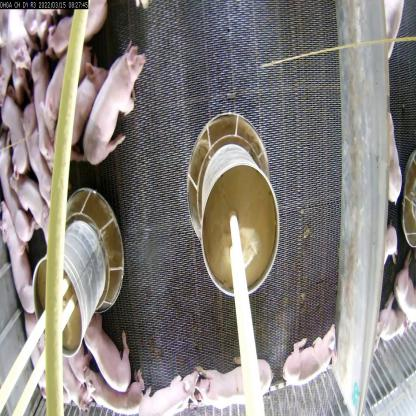Pig: (85, 42, 146, 168), (181, 346, 287, 415), (0, 199, 43, 332), (270, 316, 346, 391), (82, 300, 138, 393), (40, 44, 92, 142), (58, 53, 105, 161), (36, 338, 94, 416), (41, 0, 111, 63), (15, 303, 56, 408), (0, 134, 35, 254), (121, 363, 200, 416), (79, 361, 150, 416), (7, 166, 53, 249), (22, 104, 58, 209), (29, 45, 57, 177), (4, 2, 38, 82), (1, 87, 29, 176), (372, 294, 413, 352), (64, 320, 95, 395), (387, 103, 406, 212), (395, 254, 415, 331)
